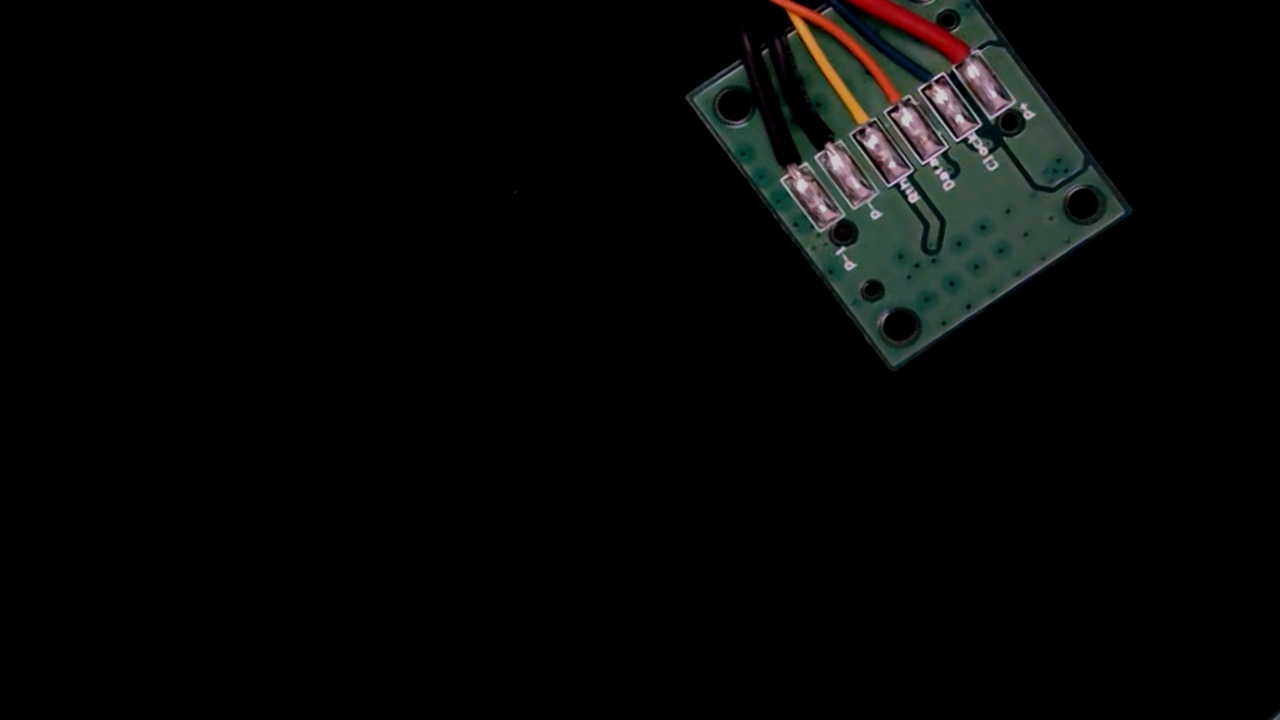Black: (783, 97, 853, 171)
Black1: (746, 122, 819, 198)
Green: (891, 38, 957, 107)
Orange: (850, 50, 924, 128)
Red: (928, 18, 992, 84)
Yellow: (813, 70, 890, 151)
